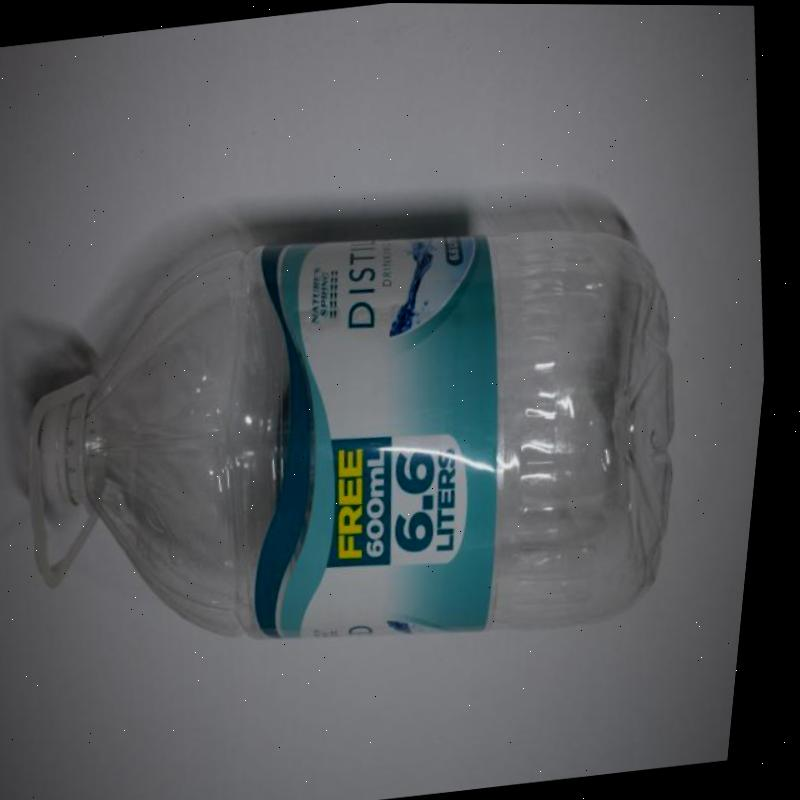botella: (0, 189, 728, 689)
